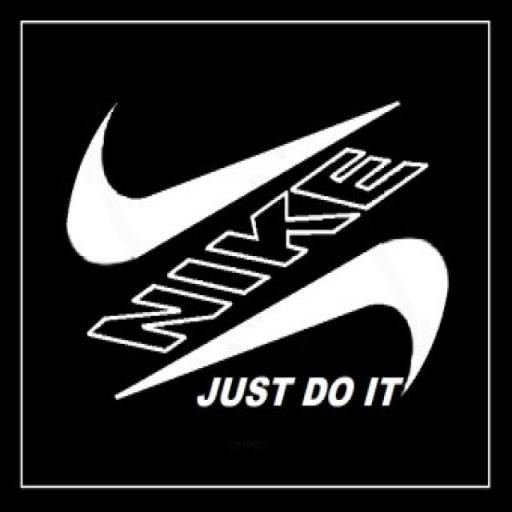Nike: (62, 92, 404, 260)
